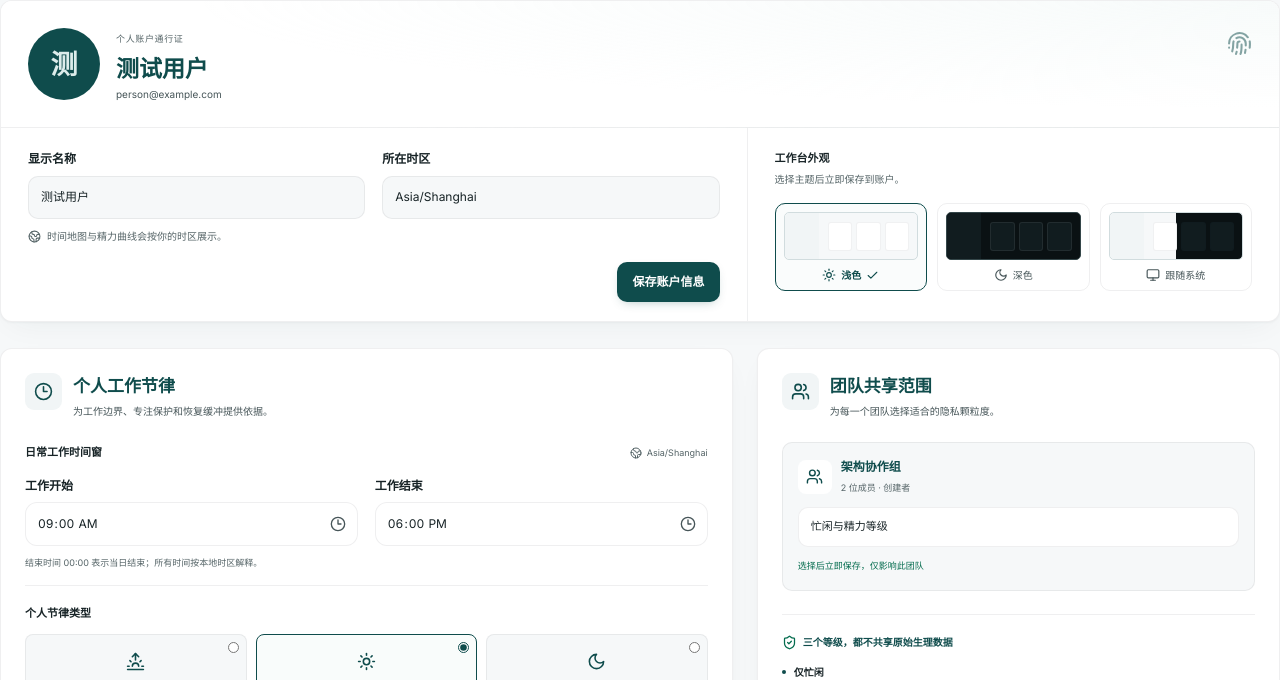
Scenario: account, rhythm and workspace privacy settings › does not claim success or change the stored profile after a failed save
The image size is (1280, 680).
Replace the text in the field labelled "显示名称" with "尚未保存" at (197, 198), box x1=28 y1=176 x2=365 y2=219
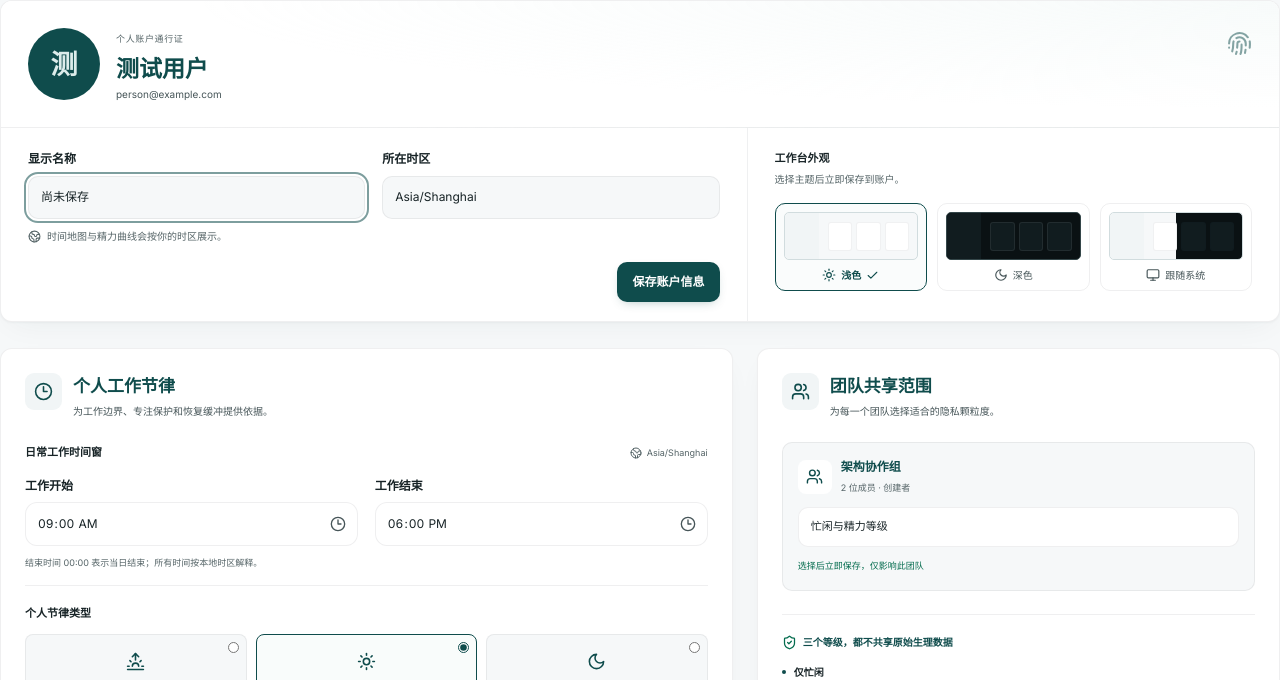
Click the button "保存账户信息".
click(668, 282)  # box x1=618 y1=262 x2=720 y2=302
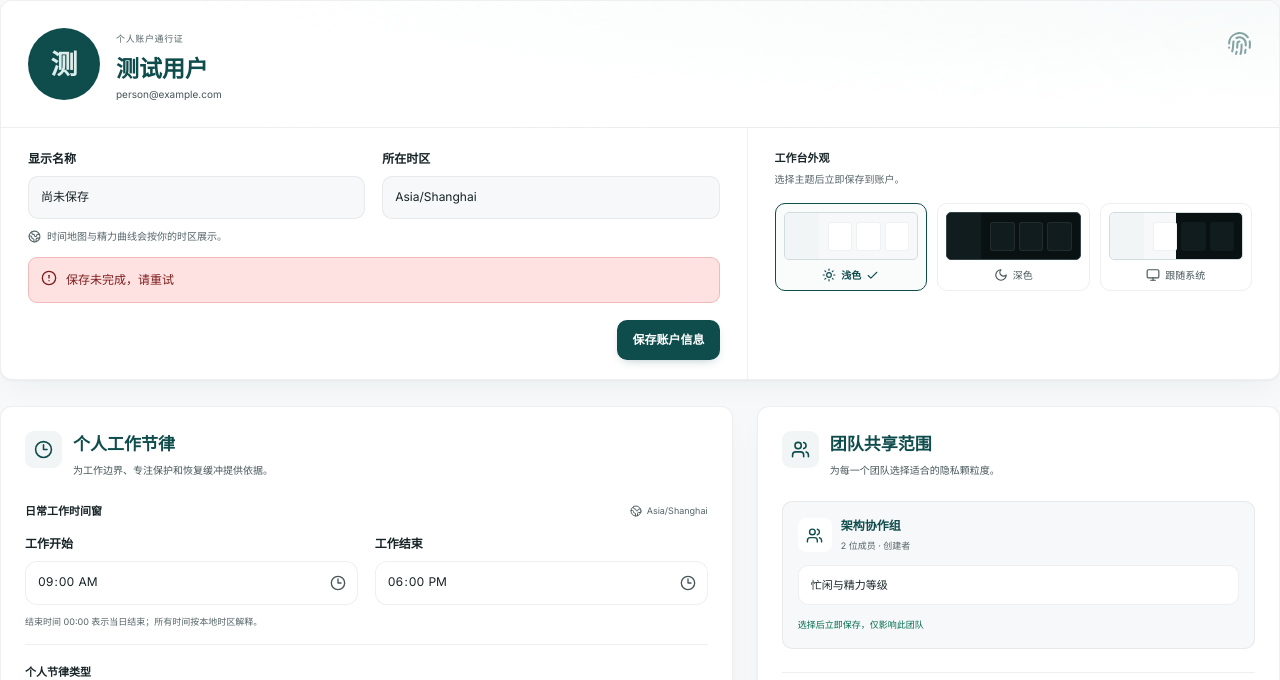
Expected: the heading "测试用户" is shown, x1=116 y1=52 x2=222 y2=84
Expected: the message "保存未完成，请重试" is shown, x1=28 y1=257 x2=720 y2=303
